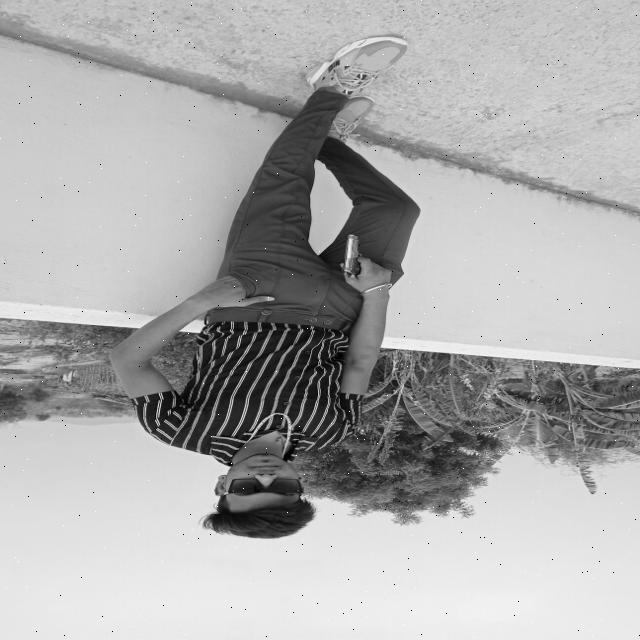gun: (313, 226, 407, 293)
